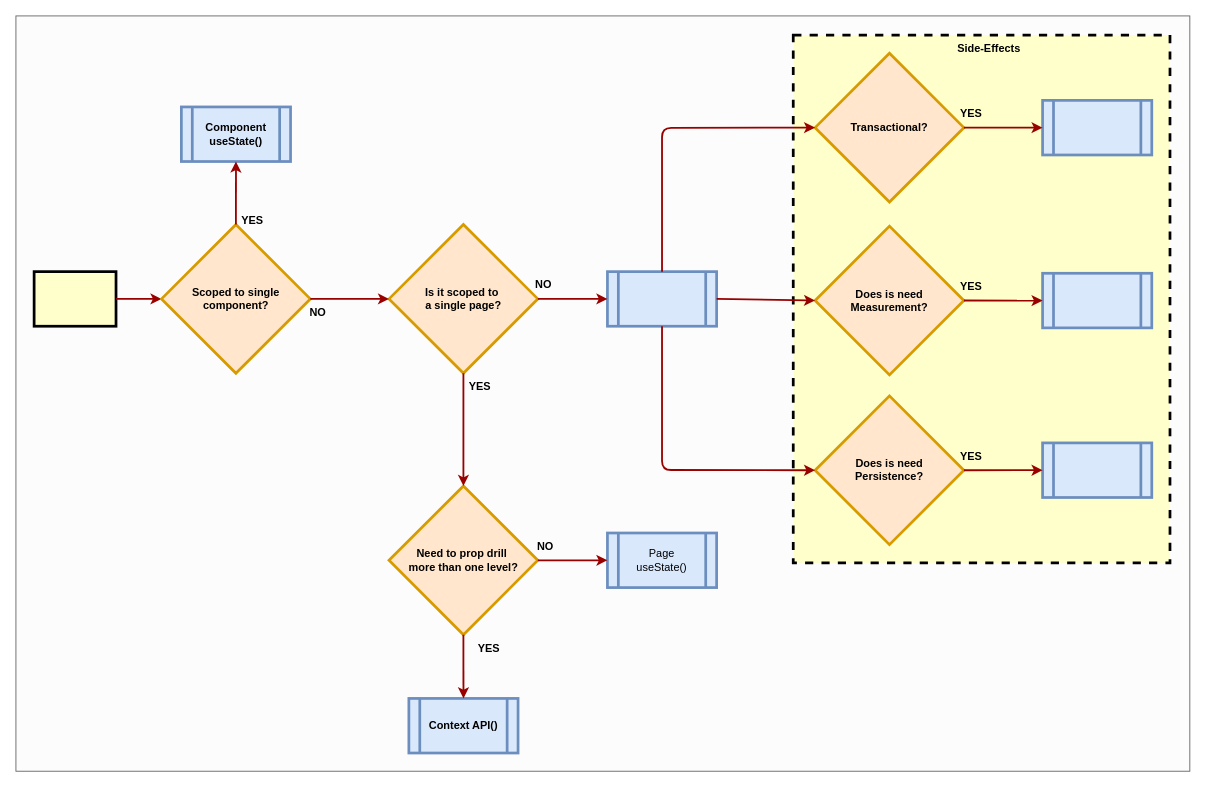
Image size: 1206x787. Some labels were removed from this diagram. The shapes that lost their labels are listed below. From the top down, each one's centre as x and y in pixels, then its label:
At (1097,127): "Server-side Database".
At (74,298): "Stateful value".
At (662,298): "Zustand/Redux".
At (1097,300): "Analytics".
At (1097,469): "Client-side sessionStorage".
